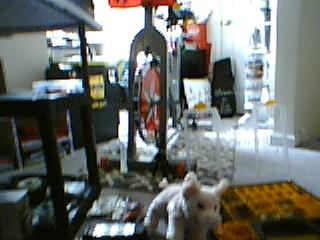piggy: (140, 170, 232, 240)
